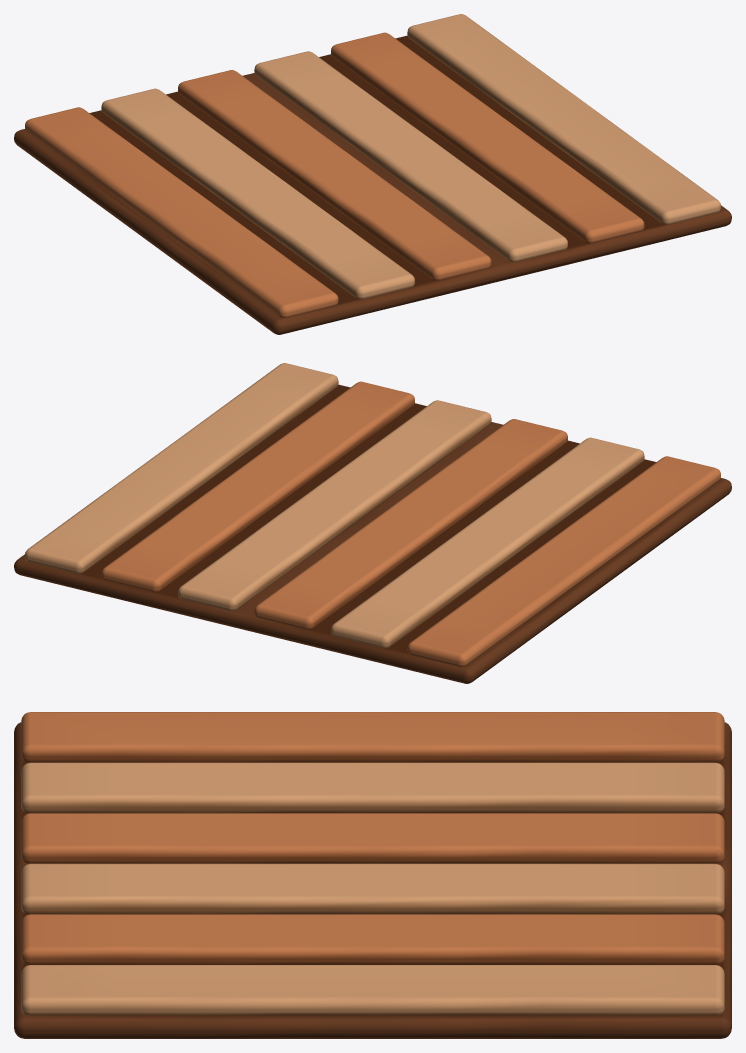
File: tile_boardwalk_straight.glb
3 renders of one model, top to bottom at view 1: azimuth 30°, elevation 25°; view 2: azimuth 150°, elevation 25°; view 3: azimuth 270°, elevation 25°, orthographic. The views are drawn at different scales.
Visible parts, largest first — view 1: f_frame, p2, p3, p4, p5, p0, p1; view 2: f_frame, p2, p3, p4, p5, p0, p1; view 3: p0, p1, p3, p4, p2, p5, f_frame.
Boxes of the visible parts, left/top/right/bottom form: f_frame: left=14, top=35, right=731, bottom=334; p2: left=178, top=70, right=491, bottom=280; p3: left=254, top=51, right=567, bottom=261; p4: left=331, top=32, right=644, bottom=243; p5: left=407, top=14, right=720, bottom=224; p0: left=25, top=107, right=338, bottom=317; p1: left=101, top=88, right=414, bottom=299; f_frame: left=14, top=384, right=731, bottom=683; p2: left=254, top=419, right=567, bottom=629; p3: left=178, top=400, right=491, bottom=610; p4: left=101, top=381, right=414, bottom=592; p5: left=25, top=363, right=338, bottom=573; p0: left=407, top=456, right=720, bottom=666; p1: left=331, top=437, right=644, bottom=648; p0: left=21, top=712, right=724, bottom=762; p1: left=21, top=762, right=724, bottom=812; p3: left=21, top=863, right=724, bottom=913; p4: left=21, top=914, right=724, bottom=964; p2: left=21, top=813, right=724, bottom=863; p5: left=21, top=965, right=724, bottom=1015; f_frame: left=14, top=722, right=731, bottom=1038.
Bounding box in the file's own units: 4 × 0.22 × 4.
